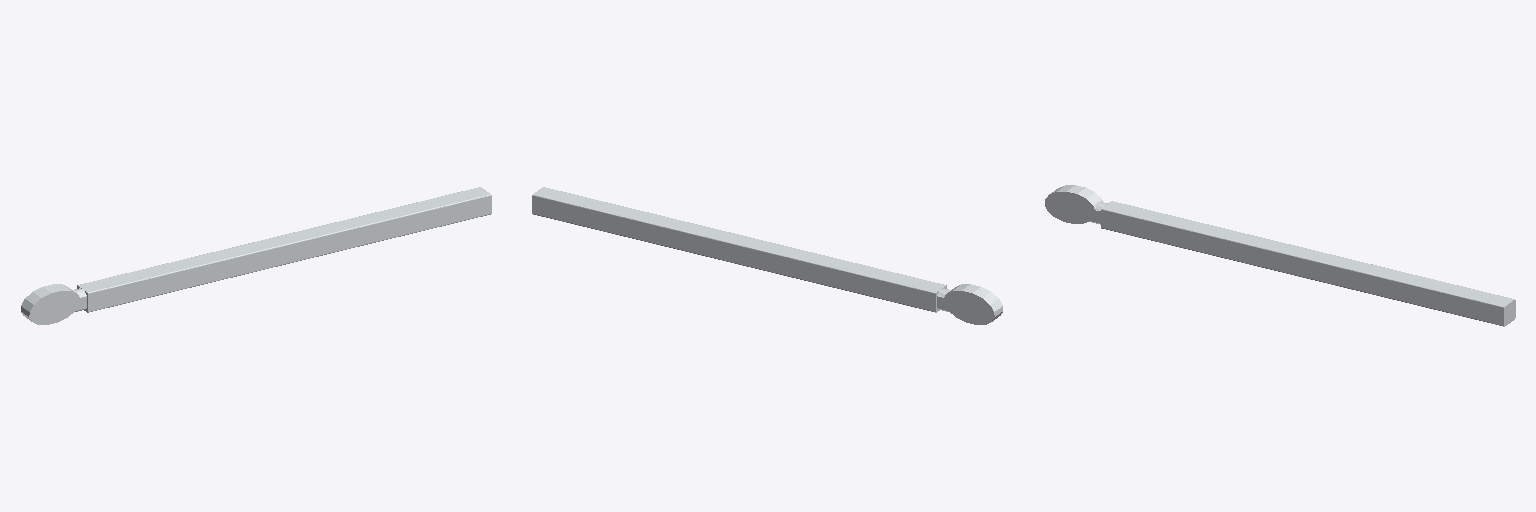
URDF robot description (spoon_new):
<?xml version="1.0" encoding="utf-8"?>
<!-- This URDF was automatically created by SolidWorks to URDF Exporter! Originally created by [author] ([email redacted]) 
     Commit Version: 1.6.0-1-g15f4949  Build Version: 1.6.7594.29634
     For more information, please see http://wiki.ros.org/sw_urdf_exporter -->
<robot
  name="spoon_new">
  <link
    name="base_link">
    <inertial>
      <origin
        xyz="-0.0147875487624379 0.00499999942893636 0.000112915548687786"
        rpy="0 0 0" />
      <mass
        value="0.0649973856441379" />
      <inertia
        ixx="1.11321167338597E-06"
        ixy="-2.76330220552564E-12"
        ixz="7.7361327073895E-07"
        iyy="0.000311802922092045"
        iyz="5.50986016128356E-13"
        izz="0.000311719796026498" />
    </inertial>
    <visual>
      <origin
        xyz="0 0 0"
        rpy="0 0 0" />
      <geometry>
        <mesh
          filename="package://spoon_new/meshes/base_link.STL" />
      </geometry>
      <material
        name="">
        <color
          rgba="0.898039215686275 0.917647058823529 0.929411764705882 1" />
      </material>
    </visual>
    <collision>
      <origin
        xyz="0 0 0"
        rpy="0 0 0" />
      <geometry>
        <mesh
          filename="package://spoon_new/meshes/base_link.STL" />
      </geometry>
    </collision>
  </link>
</robot>

--- Render facts (derived) ---
Views: 3 orthographic renders of the robot side by side, from view 1: azimuth 30°, elevation 25°; view 2: azimuth 150°, elevation 25°; view 3: azimuth 330°, elevation 25°.
Model spoon_new with 1 links and 0 joints (none), rooted at base_link, posed all joints at 0.
Visible links, largest first — view 1: base_link; view 2: base_link; view 3: base_link.
Link boxes in pixels (x1=…): base_link: x1=21, y1=187, x2=491, y2=324; base_link: x1=532, y1=187, x2=1002, y2=324; base_link: x1=1045, y1=185, x2=1515, y2=326.
Size in the robot's own frame: 0.2399 by 0.01 by 0.0154 metres.
1 mesh visuals loaded from 1 distinct referenced files (1 binary STL).